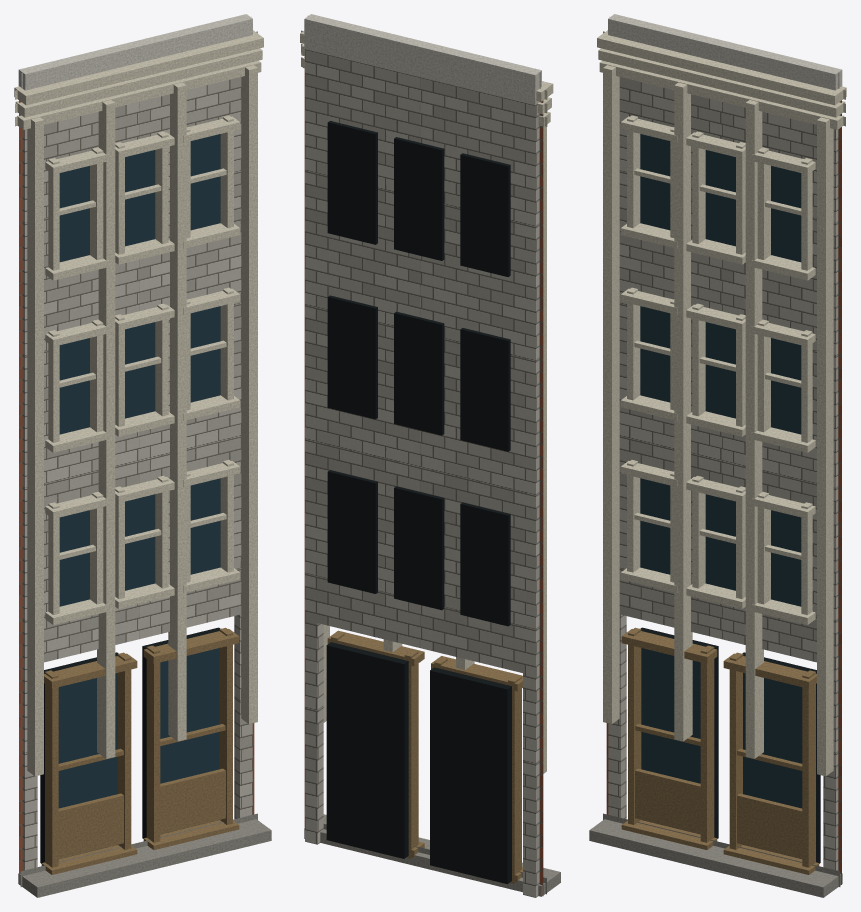
The model's file is OFFC20_lod2.glb.
3 renders of one model, left to right at view 1: azimuth 30°, elevation 25°; view 2: azimuth 150°, elevation 25°; view 3: azimuth 330°, elevation 25°, orthographic.
Visible parts, largest first — view 1: OFFC20_FRONT_LOD2; view 2: OFFC20_FRONT_LOD2; view 3: OFFC20_FRONT_LOD2.
Part boxes in pixels (x1=…): OFFC20_FRONT_LOD2: x1=14, y1=14, x2=271, y2=897; OFFC20_FRONT_LOD2: x1=300, y1=14, x2=560, y2=897; OFFC20_FRONT_LOD2: x1=589, y1=14, x2=846, y2=897.
Size of the model in its own units: 3.84 by 12.26 by 0.68.
9 materials, 7 textured.
